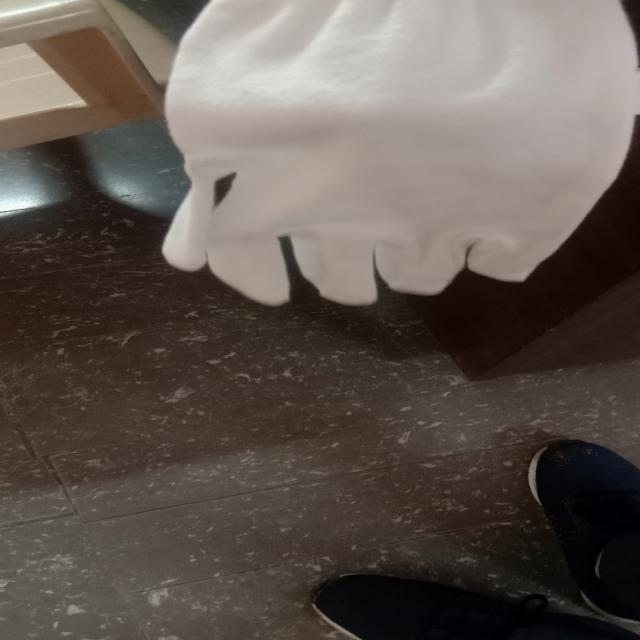glove: (150, 2, 638, 314)
